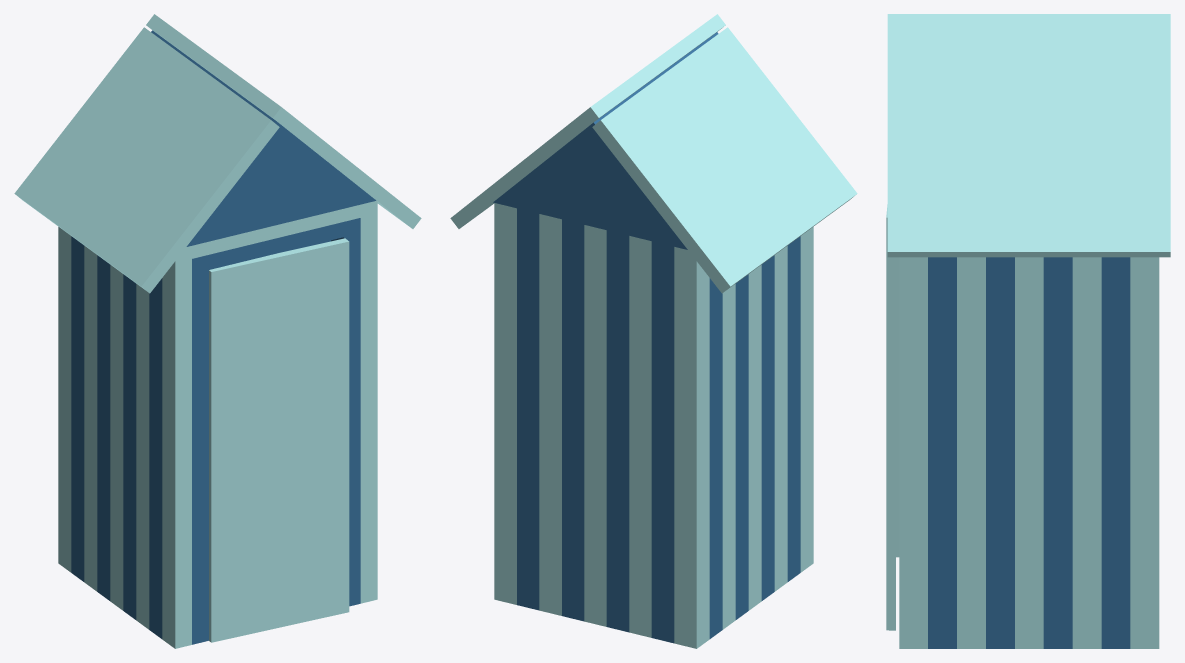
Rendered from cabin-beach.glb.
The picture shows the model from 3 angles, left to right: view 1: azimuth 30°, elevation 25°; view 2: azimuth 150°, elevation 25°; view 3: azimuth 270°, elevation 25°; orthographic projection. The views are drawn at different scales.
Parts seen in each view (by area): view 1: cabin-beach; view 2: cabin-beach; view 3: cabin-beach.
Part boxes in pixels (left/top/right/bottom): cabin-beach: left=14, top=14, right=421, bottom=648; cabin-beach: left=450, top=14, right=857, bottom=648; cabin-beach: left=886, top=14, right=1170, bottom=648.
Size of the model in its own units: 1.5 by 2.66 by 1.18.
1 material, 1 textured.
